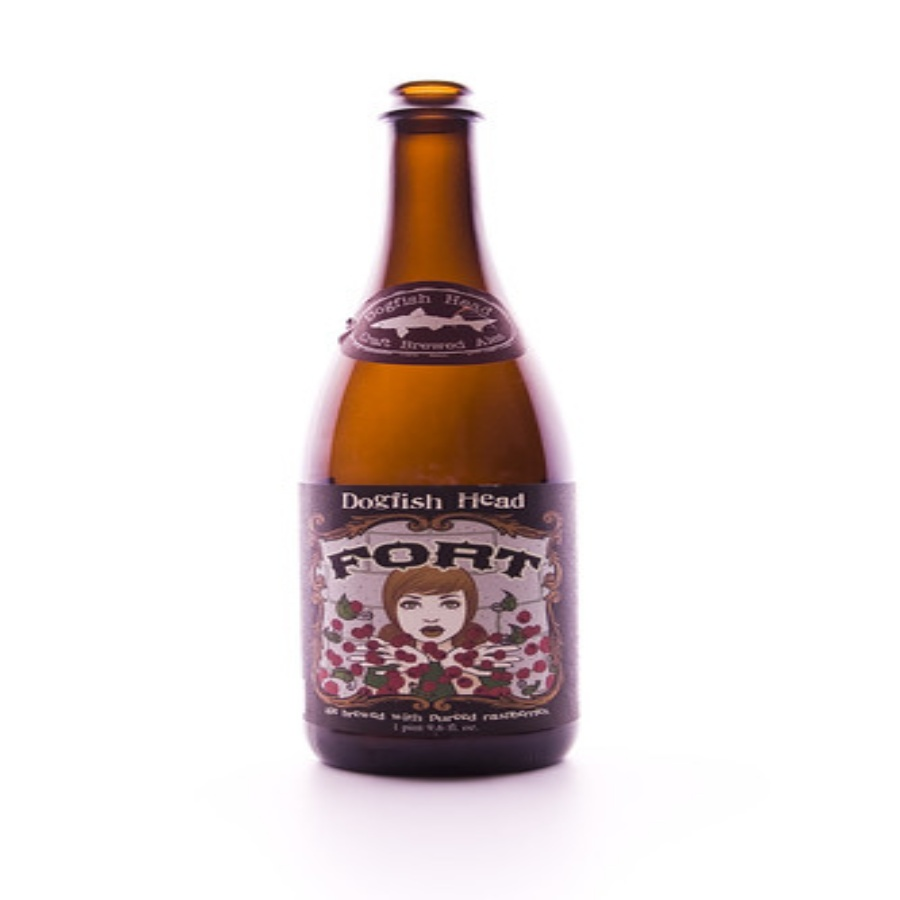beer: (290, 83, 589, 784)
